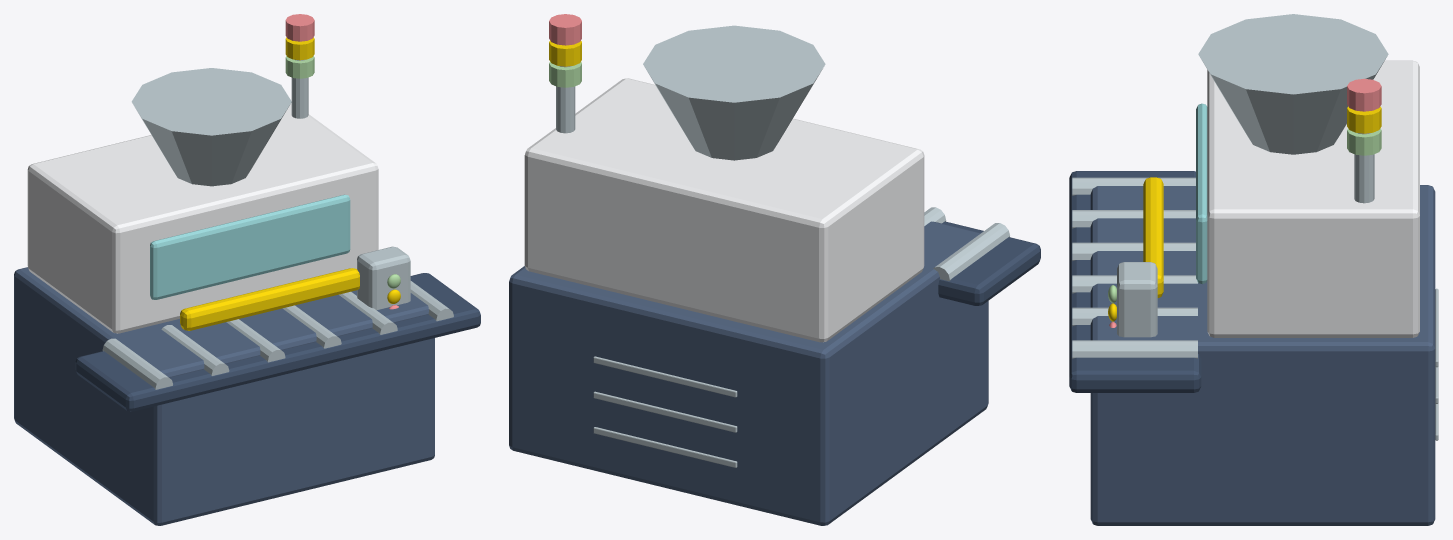
The model's file is machine-feed.glb.
3 renders of one model, left to right at view 1: azimuth 30°, elevation 25°; view 2: azimuth 150°, elevation 25°; view 3: azimuth 270°, elevation 25°, orthographic. The views are drawn at different scales.
Visible parts, largest first — view 1: Machine pedestal.001, Upper body.001, Console.001, Safety visor.001, Belt.009, Control button.004, Control button.005, Control button.003; view 2: Machine pedestal.001, Upper body.001, Console.001, Belt.009, Control button.005, Control button.004, Control button.003; view 3: Machine pedestal.001, Upper body.001, Console.001, Belt.009, Control button.004, Safety visor.001, Control button.005, Control button.003.
Part boxes in pixels (x1=…): Machine pedestal.001: x1=14, y1=267, x2=434, y2=525; Upper body.001: x1=27, y1=103, x2=378, y2=333; Console.001: x1=102, y1=59, x2=453, y2=389; Safety visor.001: x1=150, y1=194, x2=350, y2=299; Belt.009: x1=75, y1=273, x2=480, y2=411; Control button.004: x1=180, y1=37, x2=400, y2=330; Control button.005: x1=285, y1=14, x2=398, y2=309; Control button.003: x1=285, y1=56, x2=400, y2=288; Machine pedestal.001: x1=509, y1=221, x2=988, y2=525; Upper body.001: x1=524, y1=78, x2=924, y2=342; Console.001: x1=556, y1=25, x2=1009, y2=467; Belt.009: x1=938, y1=221, x2=1040, y2=305; Control button.005: x1=549, y1=14, x2=581, y2=45; Control button.004: x1=549, y1=40, x2=581, y2=66; Control button.003: x1=549, y1=62, x2=581, y2=87; Machine pedestal.001: x1=1090, y1=185, x2=1435, y2=525; Upper body.001: x1=1207, y1=60, x2=1419, y2=337; Console.001: x1=1072, y1=14, x2=1438, y2=440; Belt.009: x1=1069, y1=171, x2=1201, y2=392; Control button.004: x1=1108, y1=106, x2=1381, y2=321; Safety visor.001: x1=1196, y1=103, x2=1207, y2=283; Control button.005: x1=1109, y1=78, x2=1381, y2=327; Control button.003: x1=1108, y1=128, x2=1381, y2=302.
Size of the model in its own units: 2.4 by 2.34 by 1.82.
